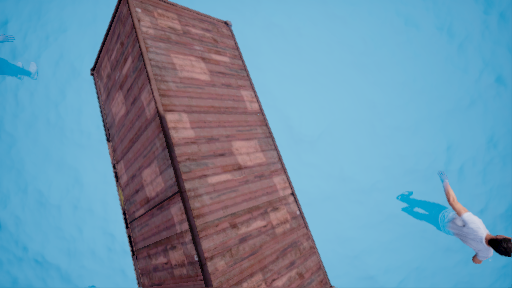person: (385, 171, 512, 273)
